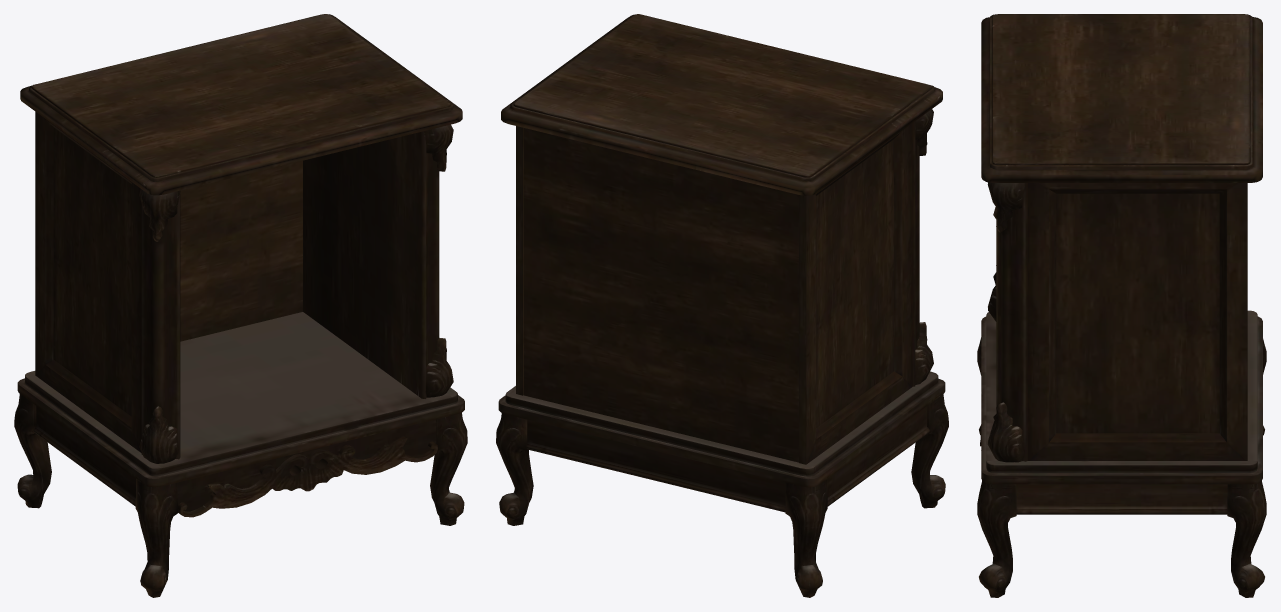
The model's file is ph-ClassicNightstand_01.glb.
The picture shows the model from 3 angles, left to right: view 1: azimuth 30°, elevation 25°; view 2: azimuth 150°, elevation 25°; view 3: azimuth 270°, elevation 25°; orthographic projection. The views are drawn at different scales.
Parts seen in each view (by area): view 1: ClassicNightstand_01; view 2: ClassicNightstand_01; view 3: ClassicNightstand_01.
Boxes of the visible parts, left/top/right/bottom form: ClassicNightstand_01: left=14, top=14, right=467, bottom=597; ClassicNightstand_01: left=496, top=14, right=948, bottom=597; ClassicNightstand_01: left=977, top=14, right=1266, bottom=597.
Size of the model in its own units: 0.8112 by 1 by 0.606.
Materials: 1 (1 with a texture image).
